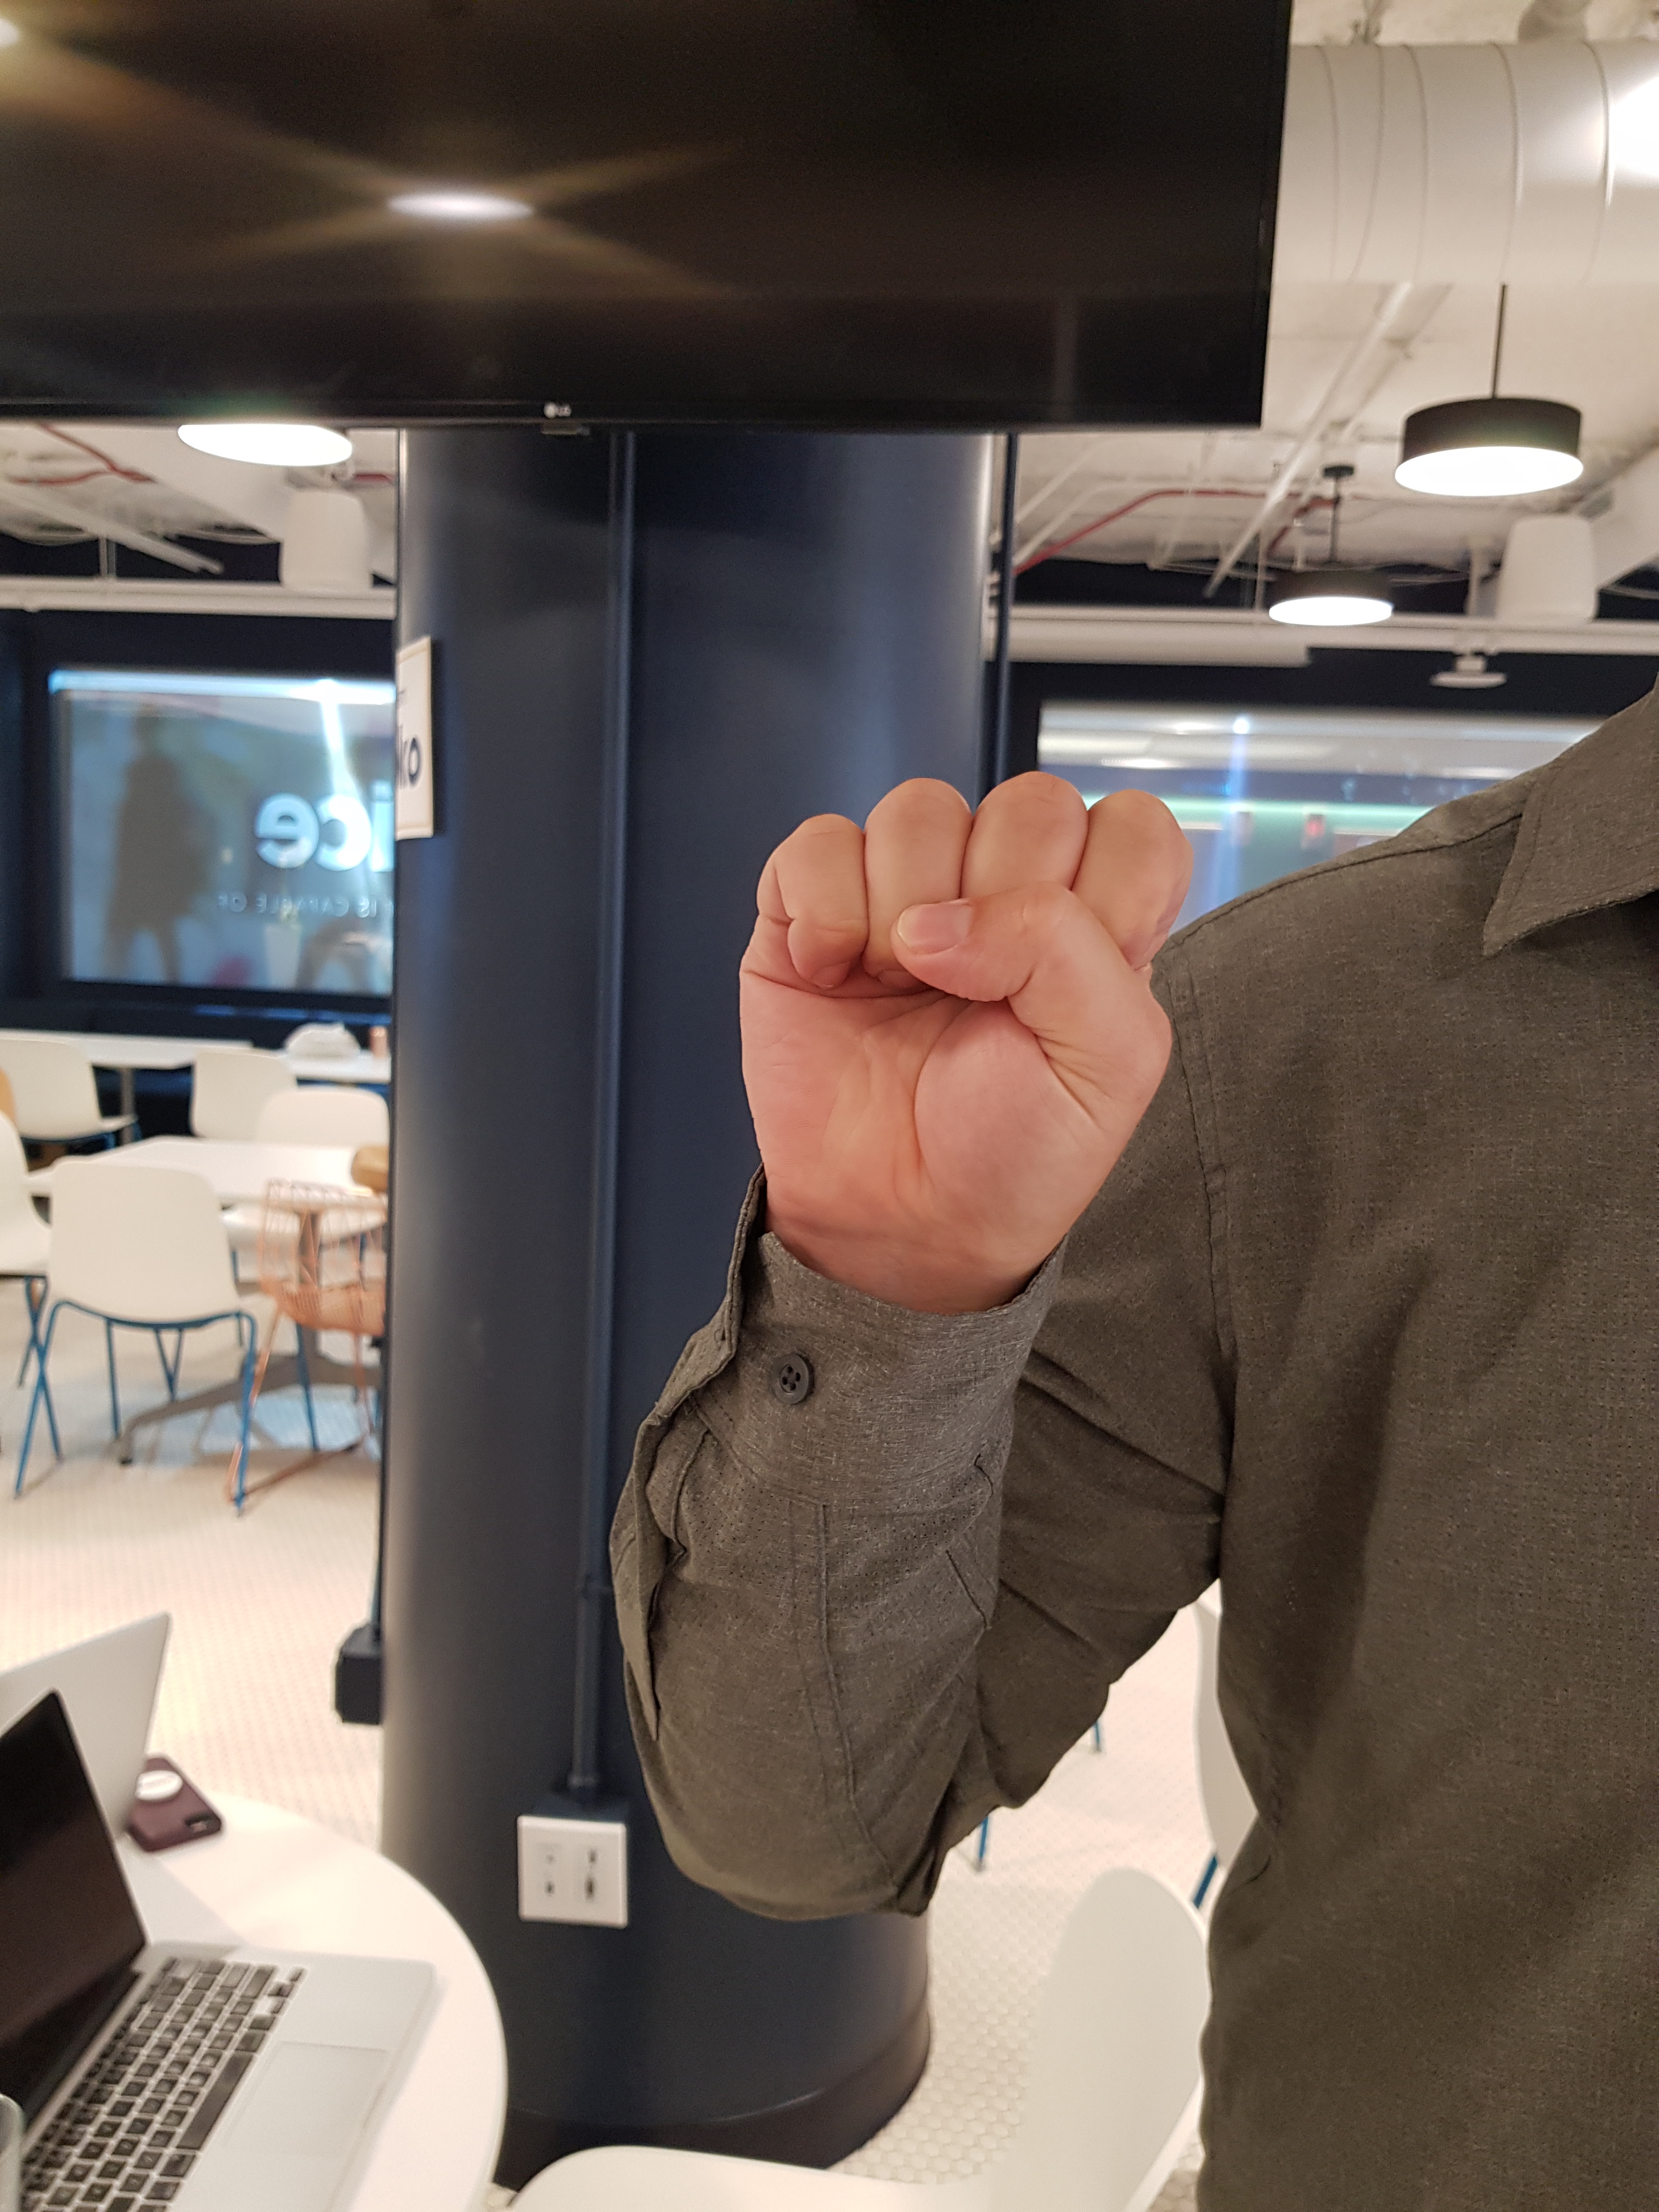s: (697, 756, 1227, 1301)
